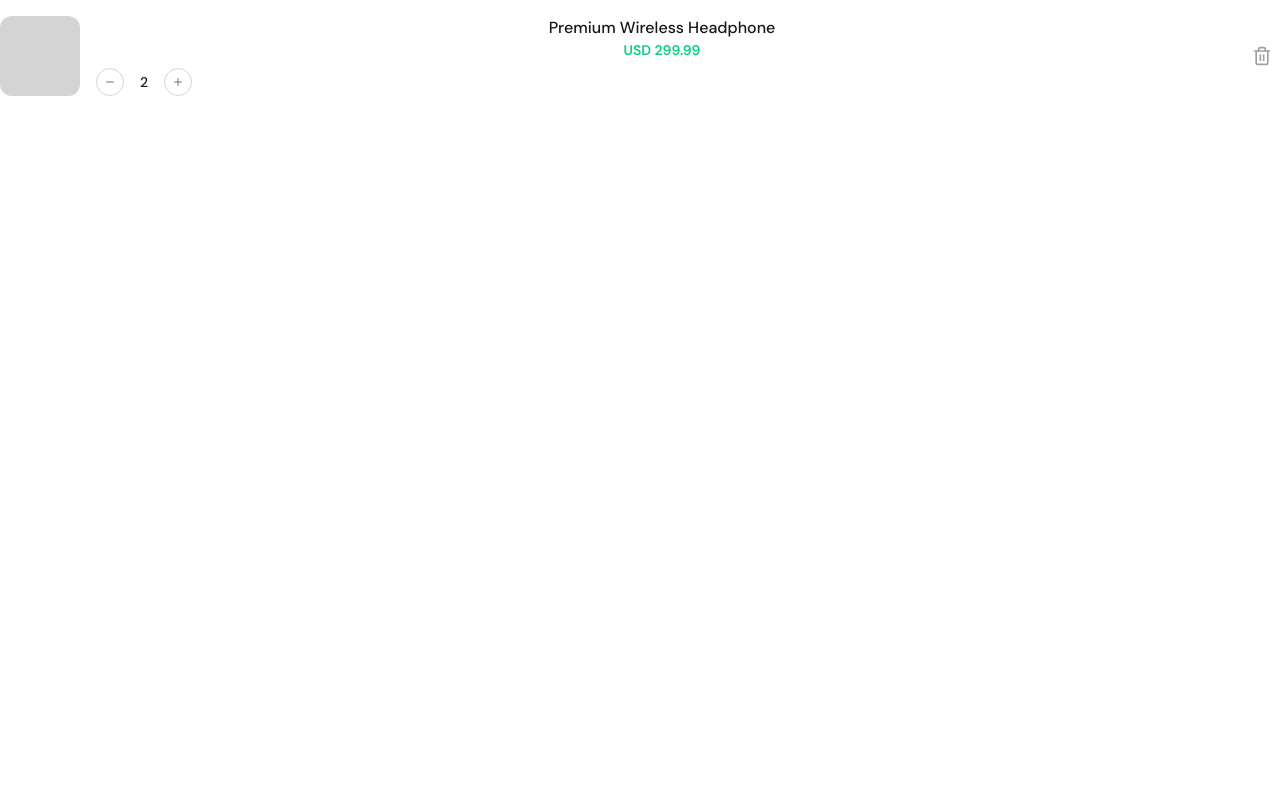
Test: CartItem › should open confirm dialog when delete button is clicked
This screenshot has width=1280, height=800.
Click the button named "remove item": [1262, 56] box [1244,38,1279,74]
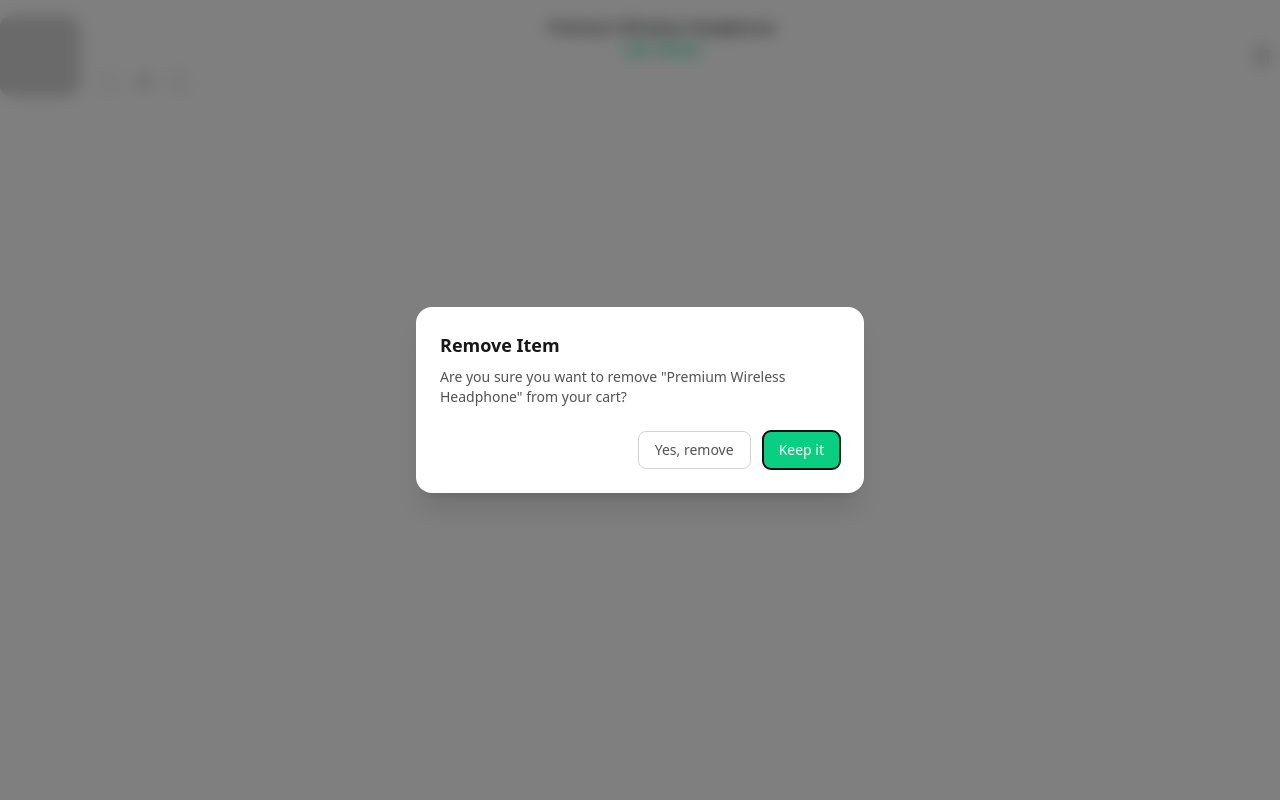
Expected: the heading "Remove Item" is shown, [440,333,560,357]
Expected: the text "Are you sure you want to remove" is shown, [440,367,786,406]
